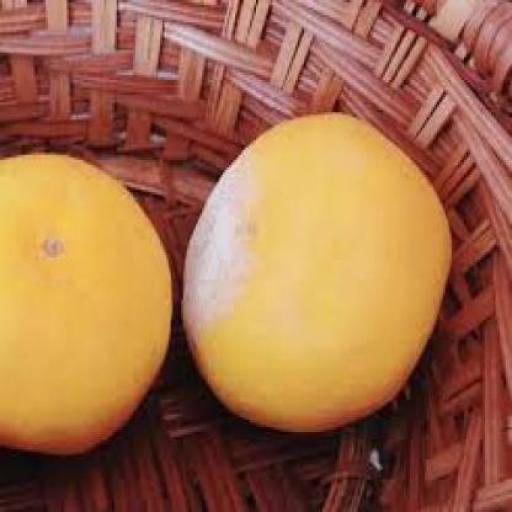biodegradable: (177, 107, 452, 432), (0, 147, 169, 455)
